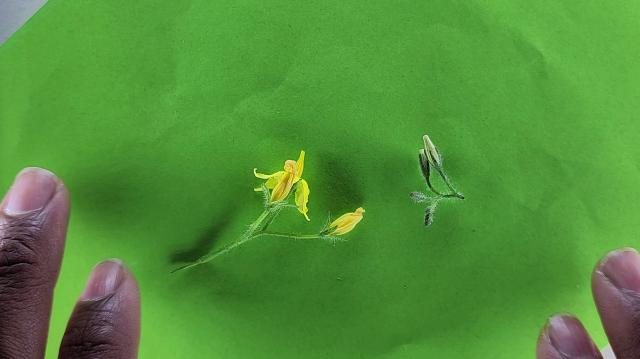Anthesis: (249, 150, 311, 223), (317, 202, 367, 243)
Flower Bud: (420, 132, 444, 170), (419, 150, 430, 183), (424, 205, 435, 228), (410, 190, 427, 202)
